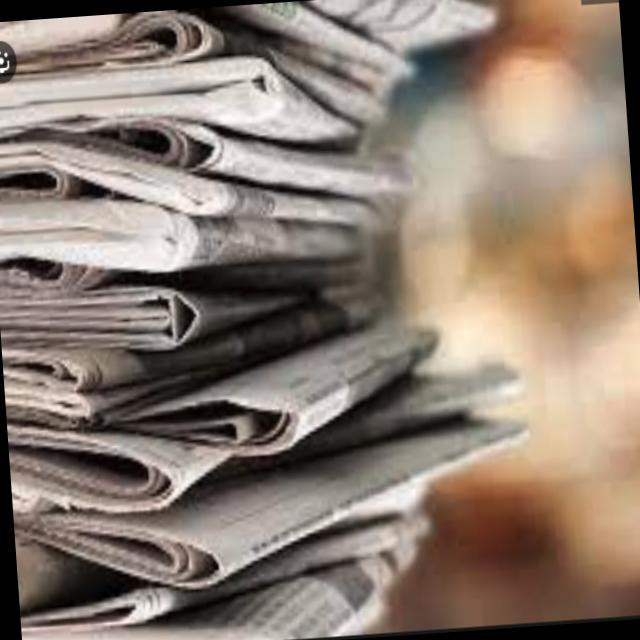Koran: (0, 0, 544, 640)
